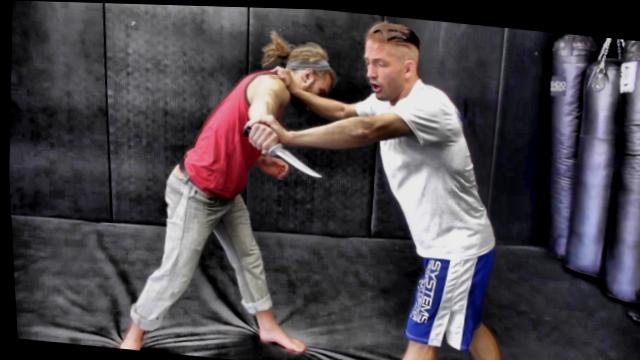knife: (234, 120, 327, 182)
